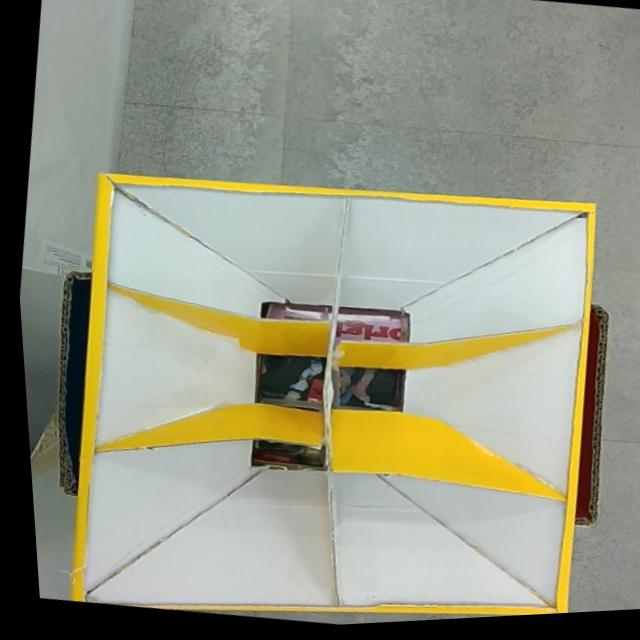box: (16, 137, 637, 640)
